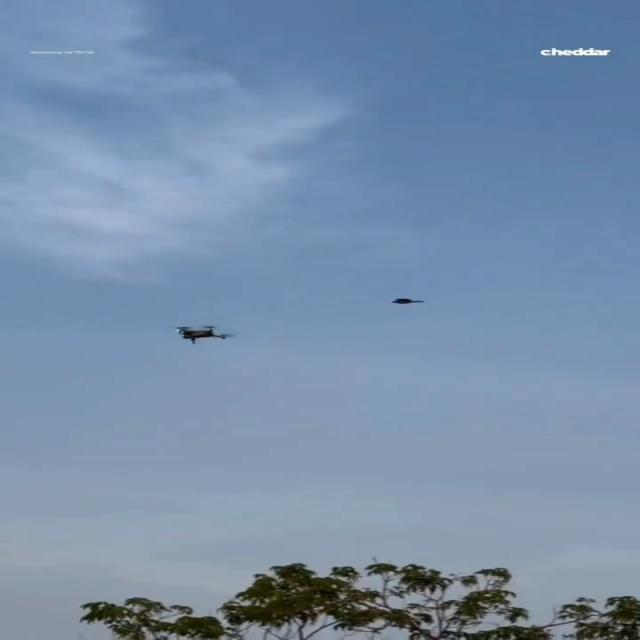bird: (390, 298, 424, 304)
drone: (174, 325, 230, 344)
